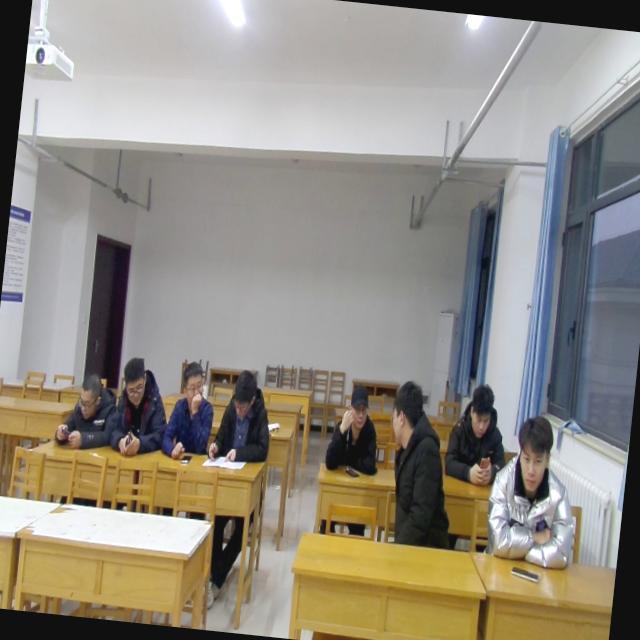bow: (54, 366, 121, 448)
down: (462, 377, 498, 440), (118, 352, 152, 406), (227, 367, 259, 423), (72, 365, 103, 419)
lookup: (507, 408, 557, 494), (342, 381, 372, 426)
sit: (482, 411, 584, 570), (376, 376, 464, 550), (315, 378, 381, 540), (102, 352, 174, 458), (443, 380, 515, 486), (206, 367, 278, 472), (158, 353, 219, 461)
